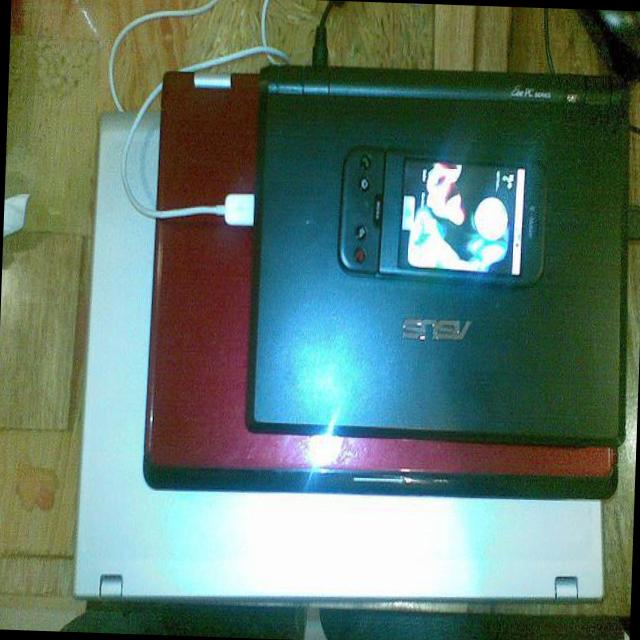cell phone: (334, 150, 548, 282)
laptop: (147, 62, 632, 494), (246, 65, 634, 448)
